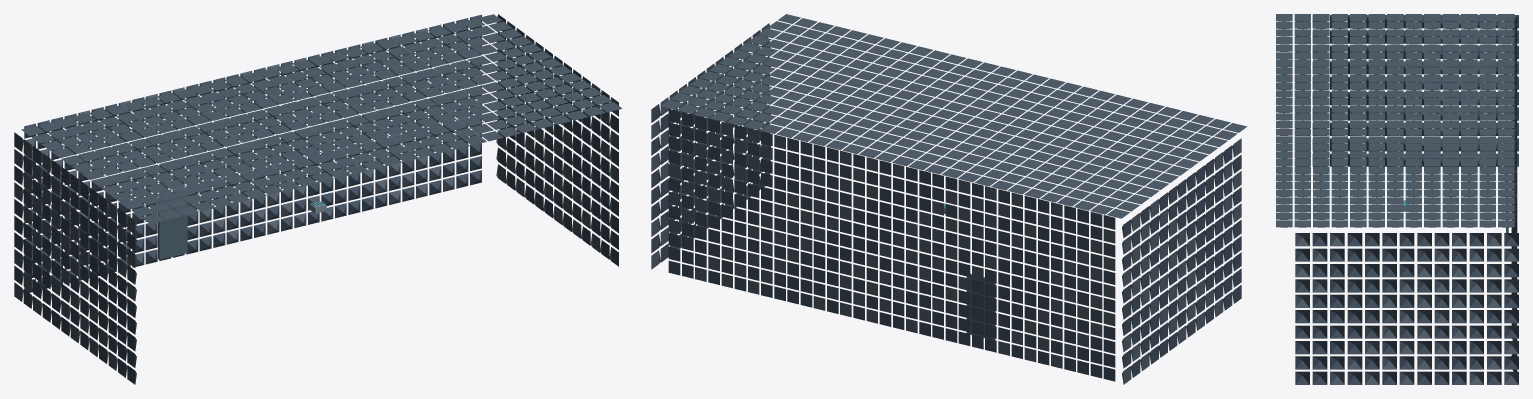
The model's file is 02_L82_RFAbsorberPyramidWallSet.glb.
3 views of the same model, side by side, from view 1: azimuth 30°, elevation 25°; view 2: azimuth 150°, elevation 25°; view 3: azimuth 270°, elevation 25° (orthographic). The views are drawn at different scales.
Parts seen in each view (by area): view 1: RFAbsorberPyramidWallSet_Node_1032; view 2: RFAbsorberPyramidWallSet_Node_1032; view 3: RFAbsorberPyramidWallSet_Node_0579, RFAbsorberPyramidWallSet_Node_0584, RFAbsorberPyramidWallSet_Node_0599, RFAbsorberPyramidWallSet_Node_0604, RFAbsorberPyramidWallSet_Node_0629, RFAbsorberPyramidWallSet_Node_0634, RFAbsorberPyramidWallSet_Node_0649, RFAbsorberPyramidWallSet_Node_0654, RFAbsorberPyramidWallSet_Node_0578, RFAbsorberPyramidWallSet_Node_0580, RFAbsorberPyramidWallSet_Node_0581, RFAbsorberPyramidWallSet_Node_0582 (+28 smaller).
Part boxes in pixels (<box>): RFAbsorberPyramidWallSet_Node_1032: <box>158,193,187,259</box>; RFAbsorberPyramidWallSet_Node_1032: <box>966,273,995,339</box>; RFAbsorberPyramidWallSet_Node_0579: <box>1434,356,1449,369</box>; RFAbsorberPyramidWallSet_Node_0584: <box>1434,279,1449,292</box>; RFAbsorberPyramidWallSet_Node_0599: <box>1399,356,1414,369</box>; RFAbsorberPyramidWallSet_Node_0604: <box>1399,279,1414,292</box>; RFAbsorberPyramidWallSet_Node_0629: <box>1347,356,1362,369</box>; RFAbsorberPyramidWallSet_Node_0634: <box>1347,279,1362,292</box>; RFAbsorberPyramidWallSet_Node_0649: <box>1312,356,1327,369</box>; RFAbsorberPyramidWallSet_Node_0654: <box>1312,279,1327,292</box>; RFAbsorberPyramidWallSet_Node_0578: <box>1434,371,1449,384</box>; RFAbsorberPyramidWallSet_Node_0580: <box>1434,341,1449,354</box>; RFAbsorberPyramidWallSet_Node_0581: <box>1434,325,1449,338</box>; RFAbsorberPyramidWallSet_Node_0582: <box>1434,310,1449,323</box>.
Bounding box in the file's own units: 24 × 7.99 × 11.3.
